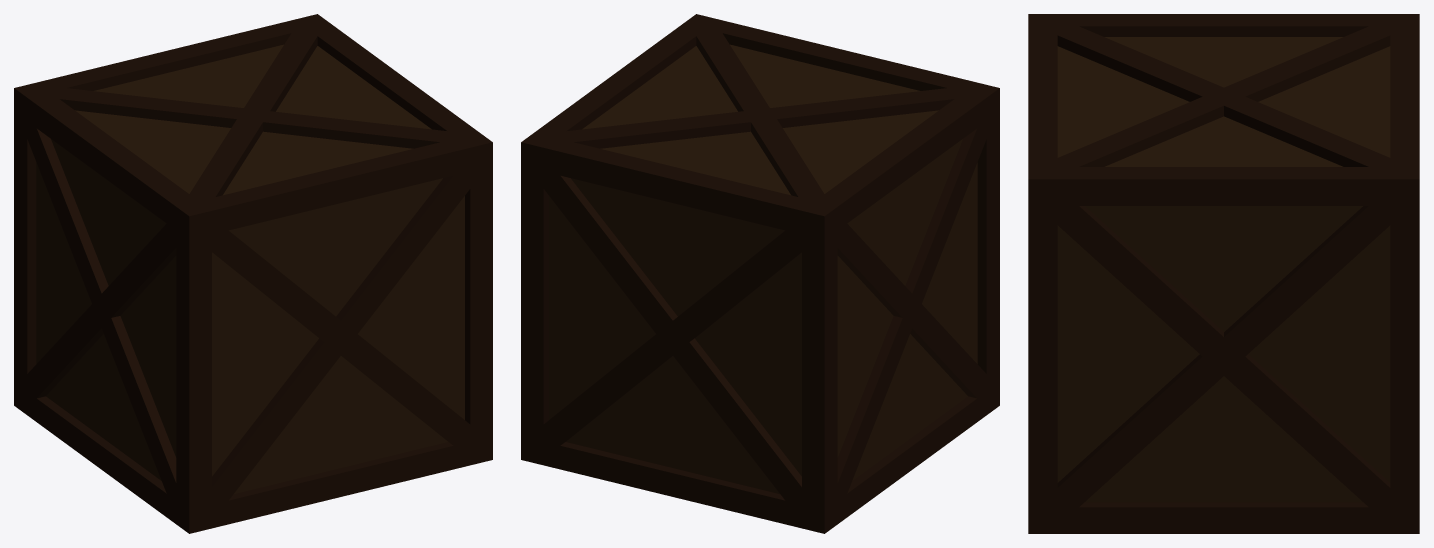
Rendered from Crate.fbx.
The picture shows the model from 3 angles, left to right: view 1: azimuth 30°, elevation 25°; view 2: azimuth 150°, elevation 25°; view 3: azimuth 270°, elevation 25°; orthographic projection. The views are drawn at different scales.
Visible parts, largest first — view 1: Crate; view 2: Crate; view 3: Crate.
Part boxes in pixels (box(x1,y1,x2,y2)): Crate: box(14, 14, 492, 533); Crate: box(521, 14, 999, 533); Crate: box(1028, 14, 1419, 533).
Bounding box in the file's own units: 825 × 825 × 825.
